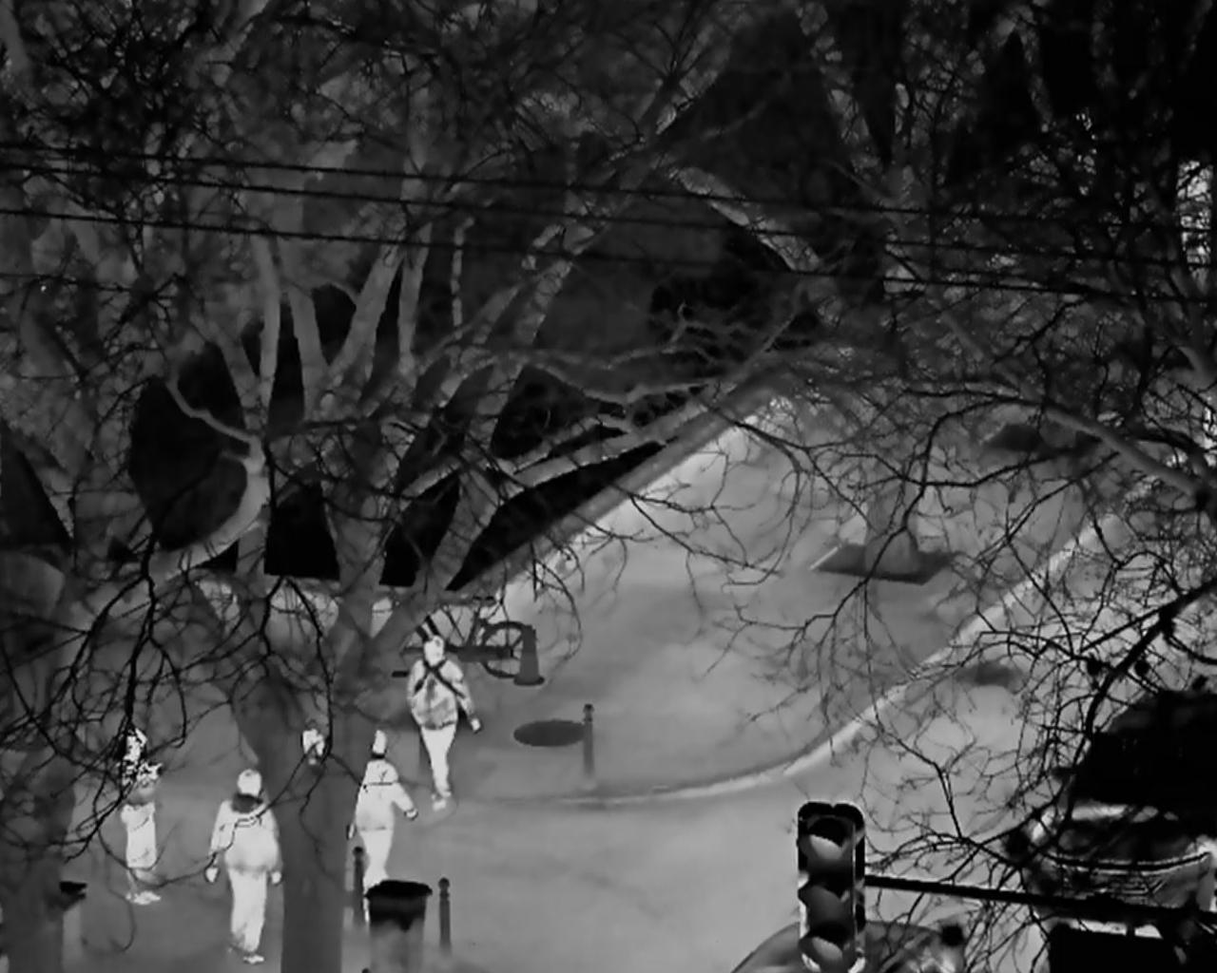person: (201, 768, 283, 966), (404, 637, 481, 812), (353, 729, 420, 887), (118, 729, 171, 906)
